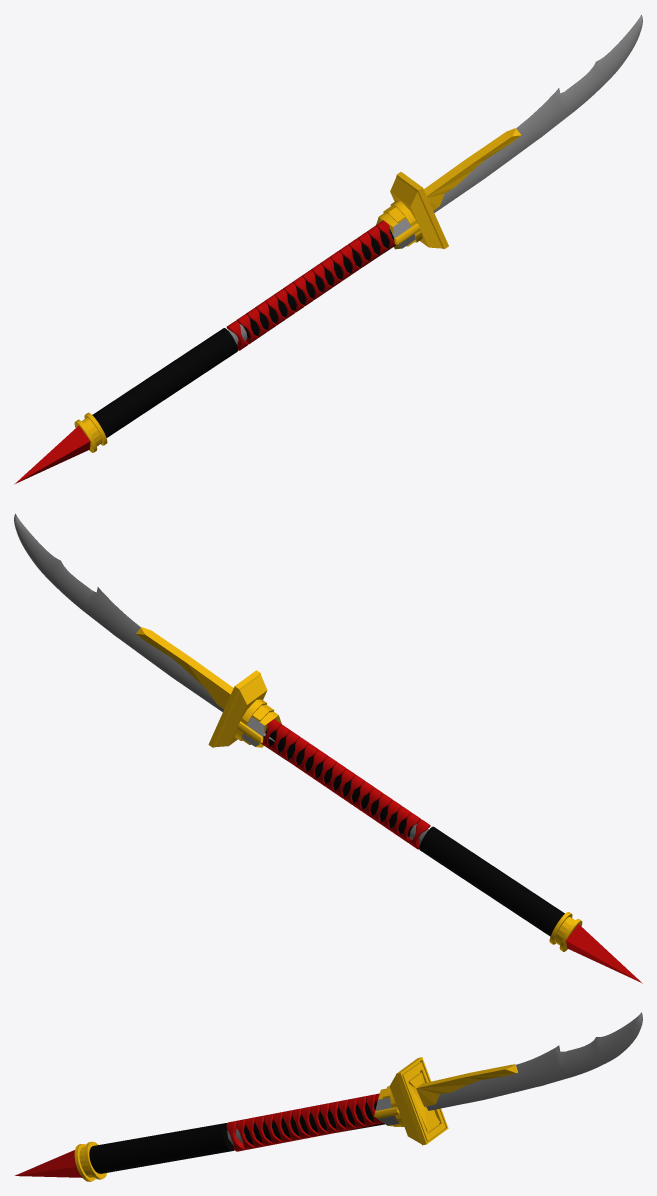
The model's file is 斬馬刀2Collider.fbx.
3 renders of one model, top to bottom at view 1: azimuth 30°, elevation 25°; view 2: azimuth 150°, elevation 25°; view 3: azimuth 330°, elevation 25°, orthographic.
Parts seen in each view (by area): view 1: 1, Cylinder001; view 2: 1, Cylinder001; view 3: 1, Cylinder001.
Boxes of the visible parts, x1,y1,x2,y2 form: 1: [14, 14, 642, 484]; Cylinder001: [226, 220, 395, 350]; 1: [14, 513, 642, 983]; Cylinder001: [261, 719, 430, 849]; 1: [14, 1012, 642, 1181]; Cylinder001: [226, 1093, 383, 1151].
Size of the model in its own units: 1080 by 520 by 65.9.
